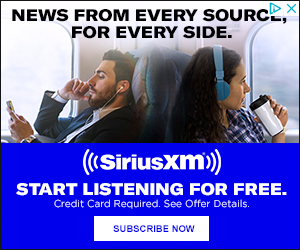fake_button: (91, 214, 214, 247)
